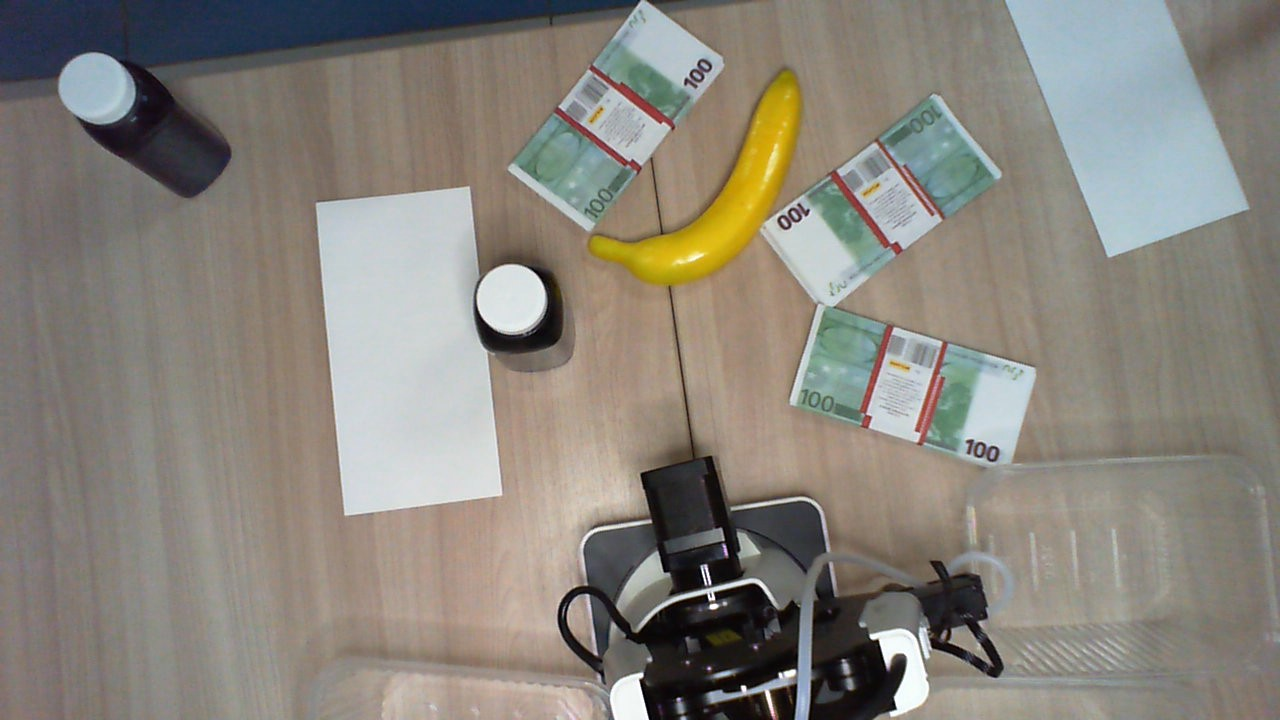banana: (589, 67, 803, 287)
bottle: (46, 44, 173, 154), (473, 263, 564, 349)
convert: (313, 188, 509, 520), (1002, 1, 1253, 255)
money: (760, 91, 1004, 305), (508, 4, 724, 238), (787, 307, 1038, 470)
